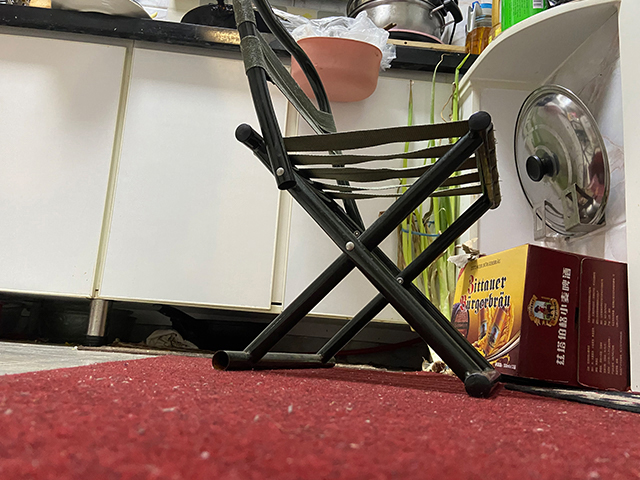cabinet: (1, 1, 473, 351)
carpet: (1, 354, 640, 480)
stool: (210, 1, 640, 400)
